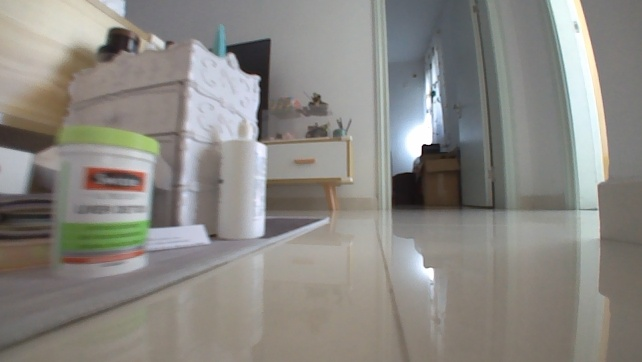blanket: (0, 215, 331, 353)
door_anno: (441, 0, 520, 211)
